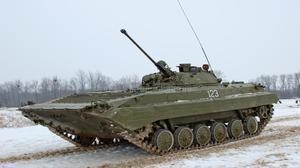bmp: (18, 26, 281, 155)
